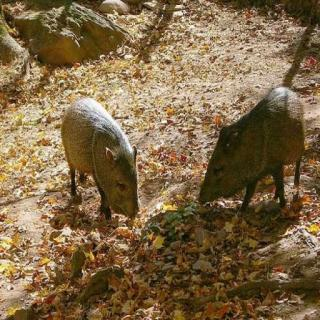Pig: (196, 89, 315, 232), (55, 89, 155, 227)
